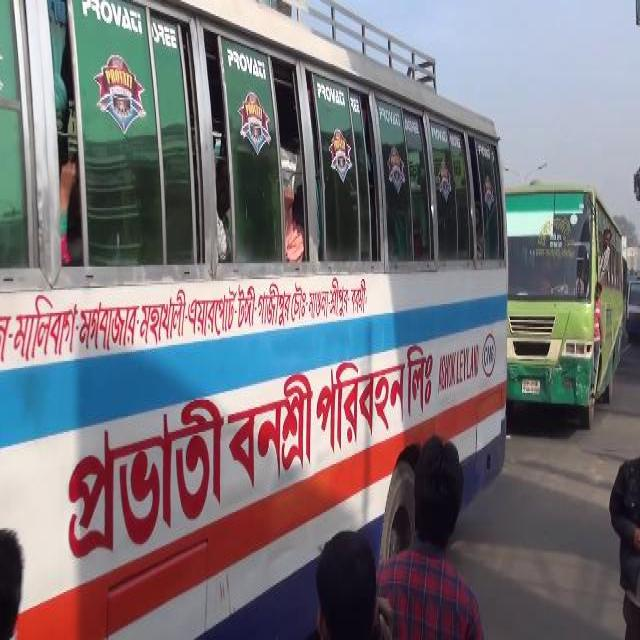Truck: (0, 1, 508, 639), (504, 171, 624, 433), (626, 270, 638, 338)
